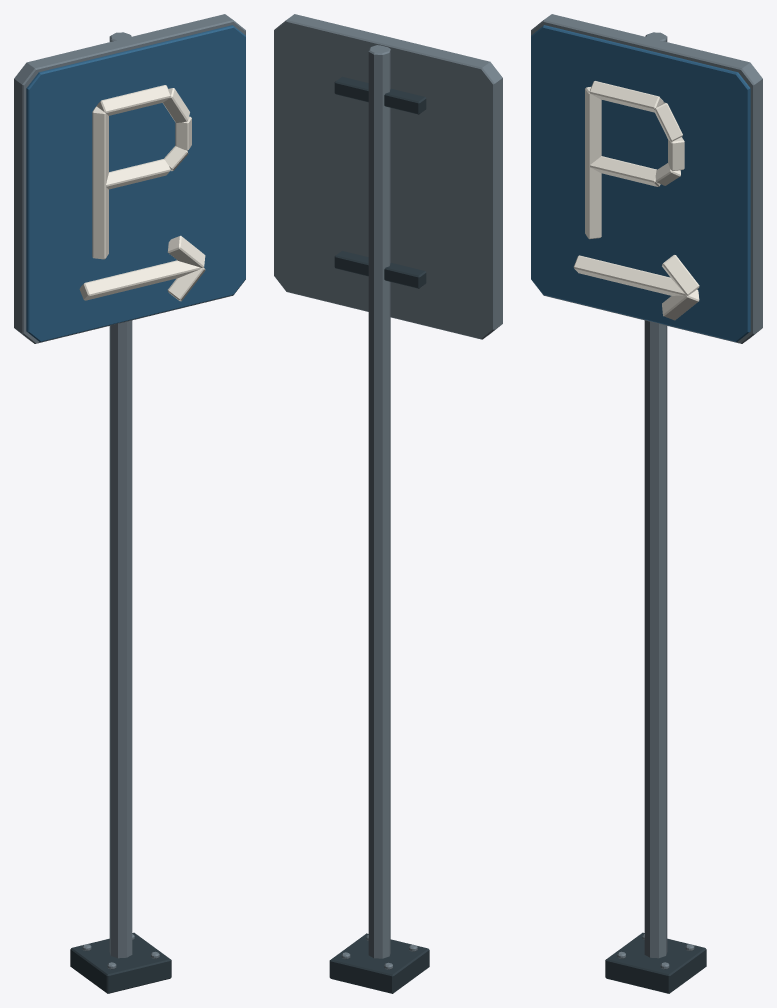
The model's file is b02_public_parking_sign.glb.
3 renders of one model, left to right at view 1: azimuth 30°, elevation 25°; view 2: azimuth 150°, elevation 25°; view 3: azimuth 330°, elevation 25°, orthographic.
Parts seen in each view (by area): view 1: b02_public_parking_sign; view 2: b02_public_parking_sign; view 3: b02_public_parking_sign.
Part boxes in pixels (box(x1,y1,x2,y2)): b02_public_parking_sign: box(14, 14, 245, 993); b02_public_parking_sign: box(274, 14, 502, 993); b02_public_parking_sign: box(531, 14, 762, 993).
Size of the model in its own units: 0.62 by 2.48 by 0.2137.
